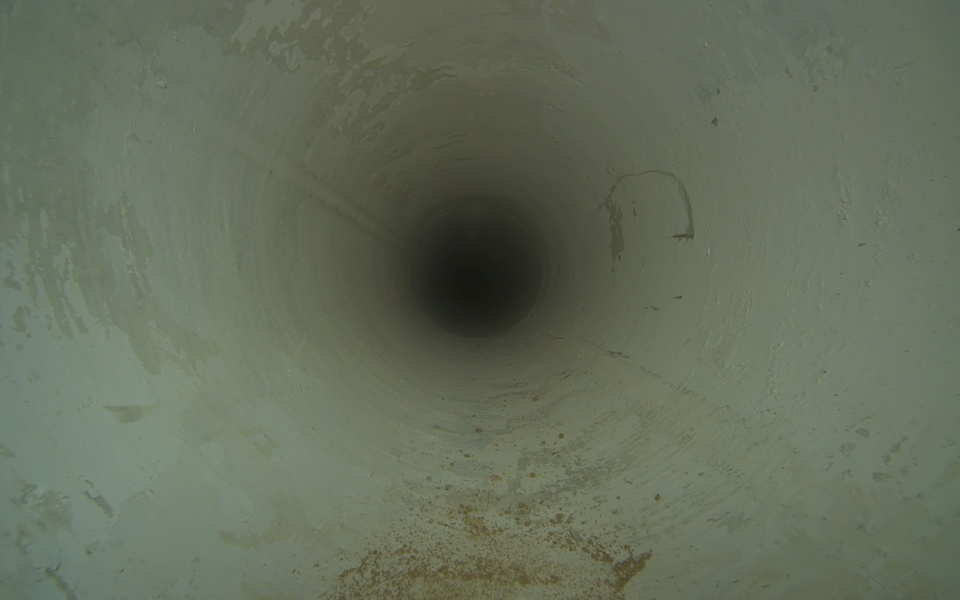circle2: (453, 264, 497, 308)
